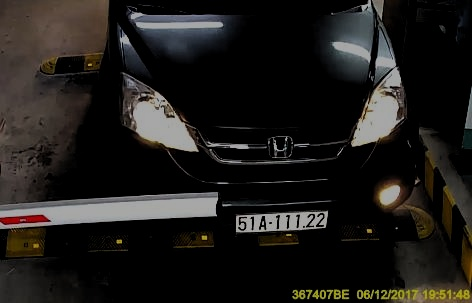plate: (232, 207, 332, 234)
